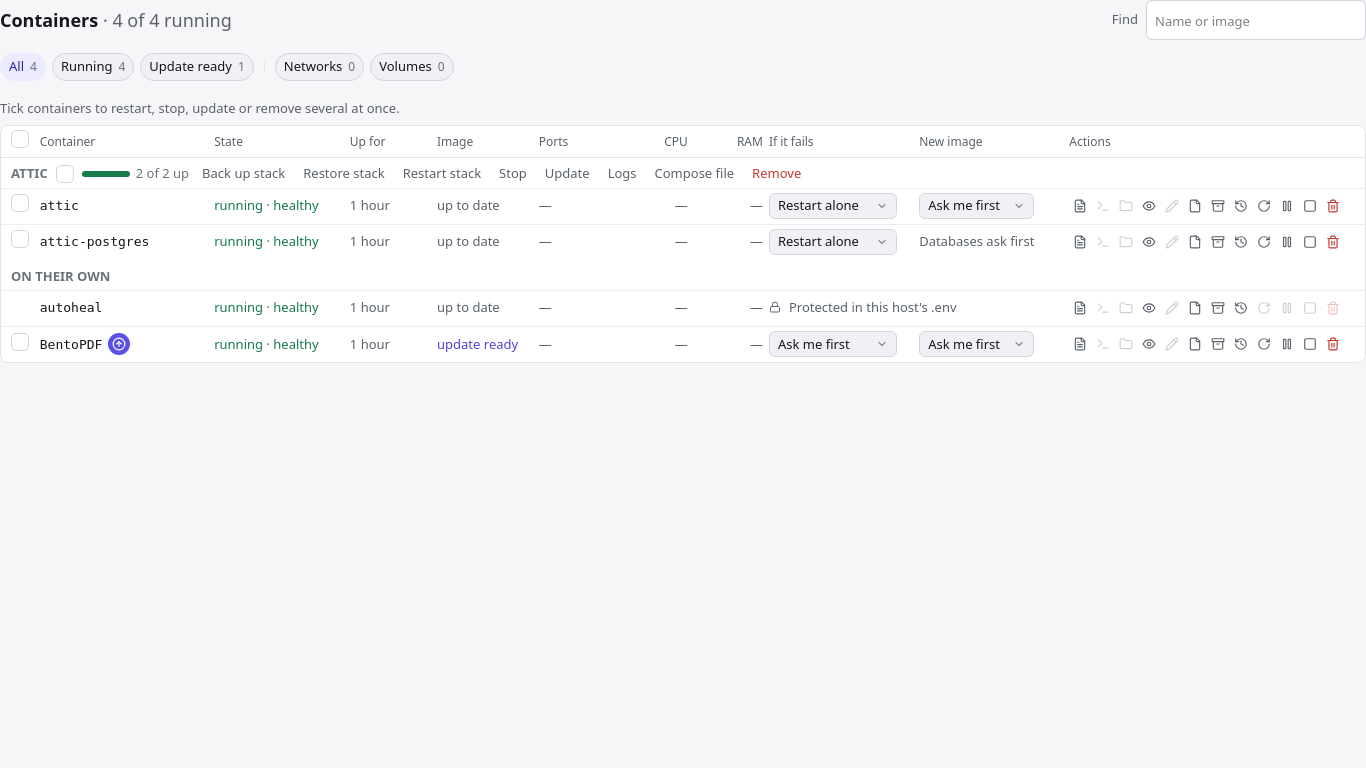
Test case: a row's update icon › closes on Cancel, sending nothing
Click the button named "Update BentoPDF" at (119, 344), box [108,333,130,355]
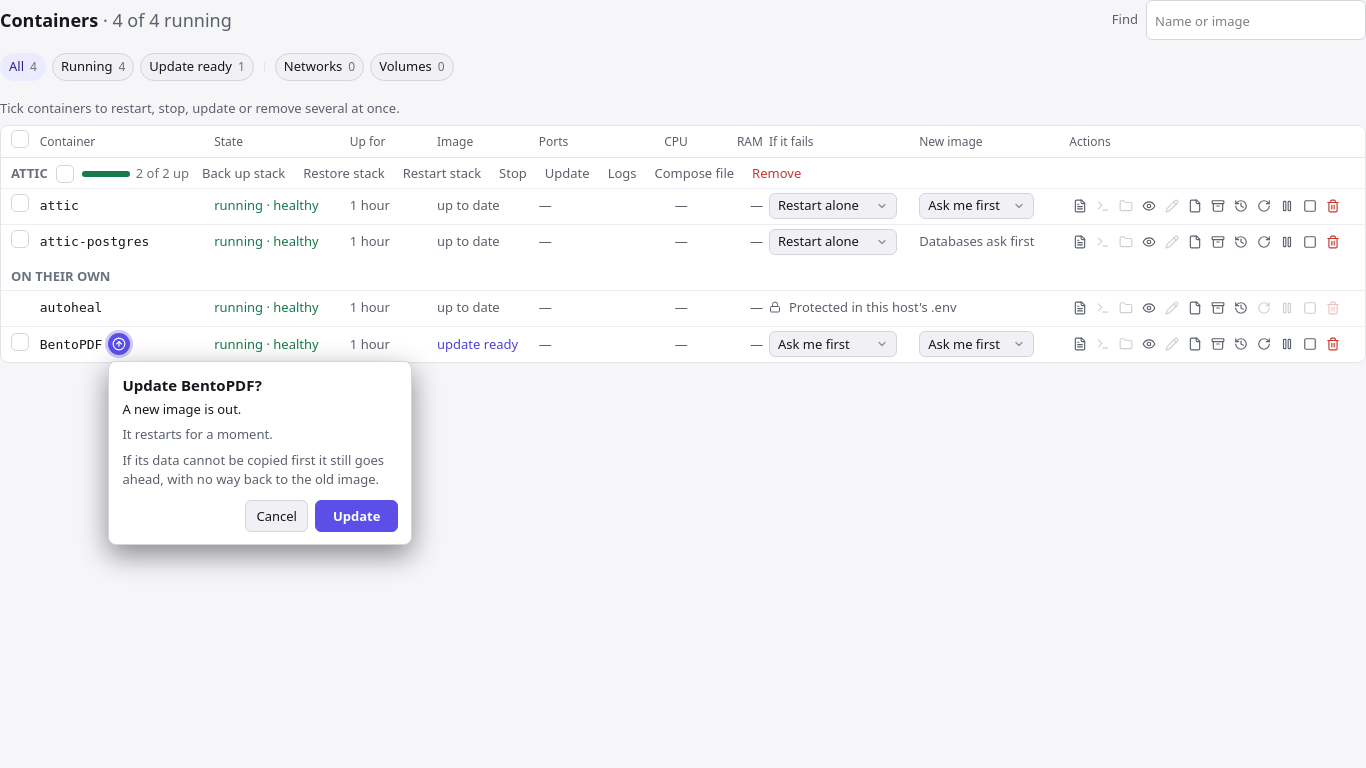
Check: the dialog is shown, box [108,361,412,545]
Click the button "Cancel" at (277, 516), box [245,500,308,532]
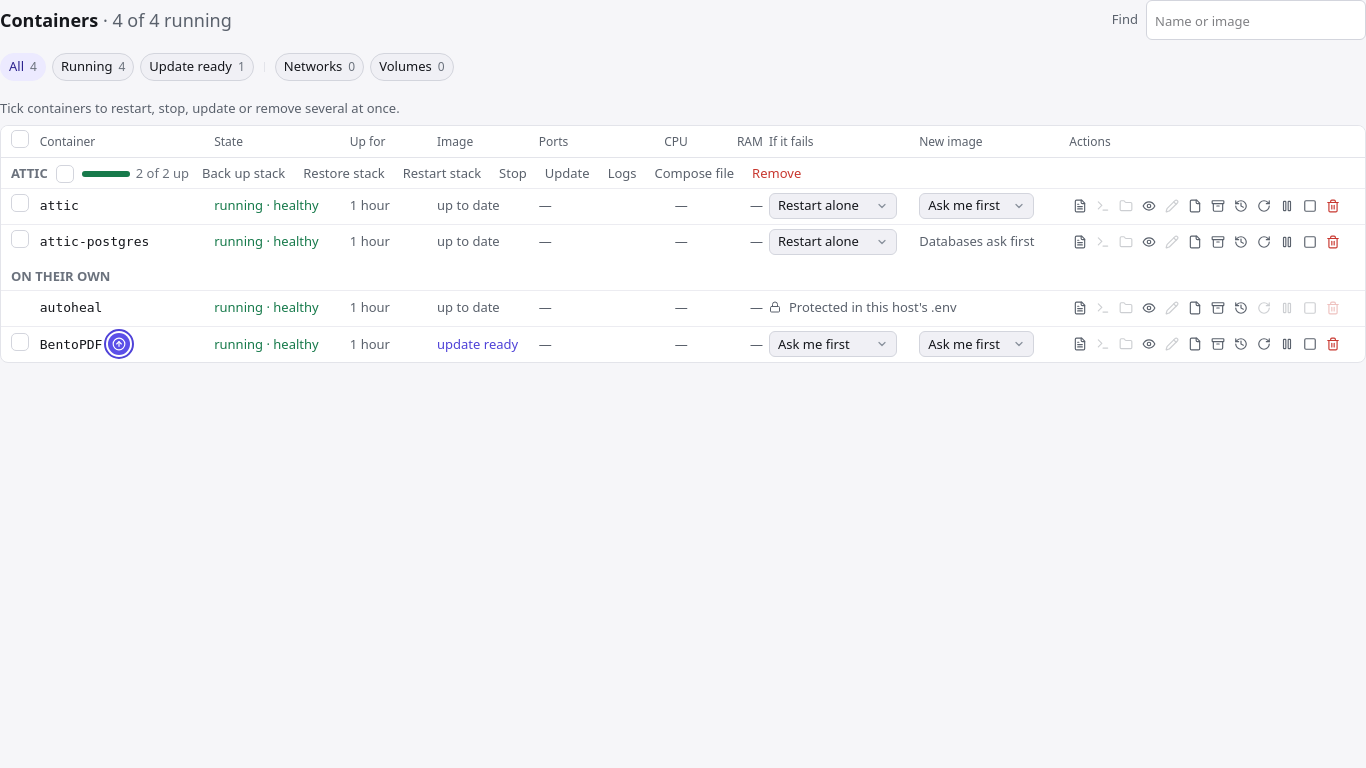
Check: the dialog is gone
